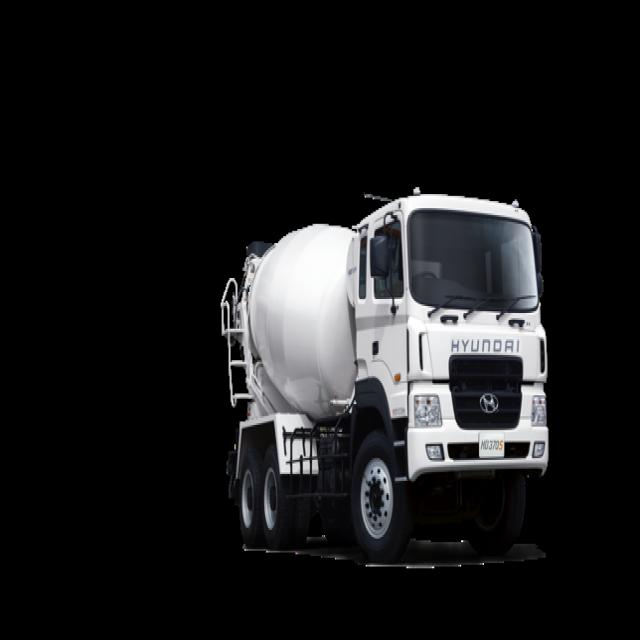Mixer Truck: (220, 193, 549, 562)
